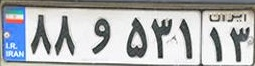character: (120, 14, 151, 62), (148, 12, 175, 63), (84, 13, 115, 57), (52, 13, 79, 60), (227, 22, 255, 66), (174, 13, 198, 64), (29, 10, 53, 57), (205, 25, 227, 64)
